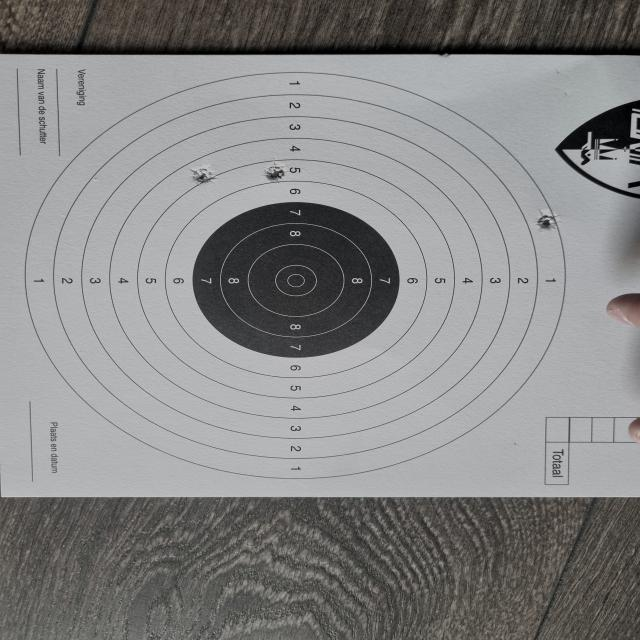1: (536, 210, 560, 230)
5: (189, 168, 216, 183)
6: (264, 158, 289, 182)
Target: (21, 71, 568, 482)
black_contour: (192, 202, 400, 358)
